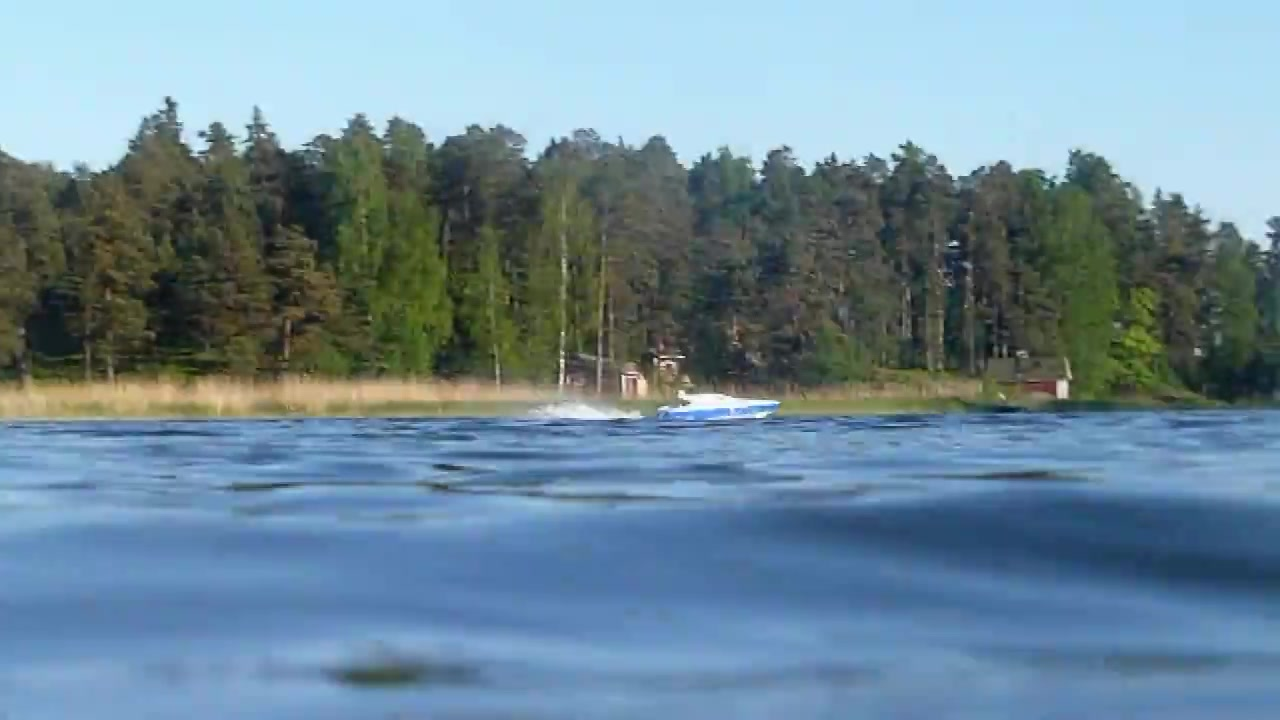boat: (654, 389, 787, 423)
